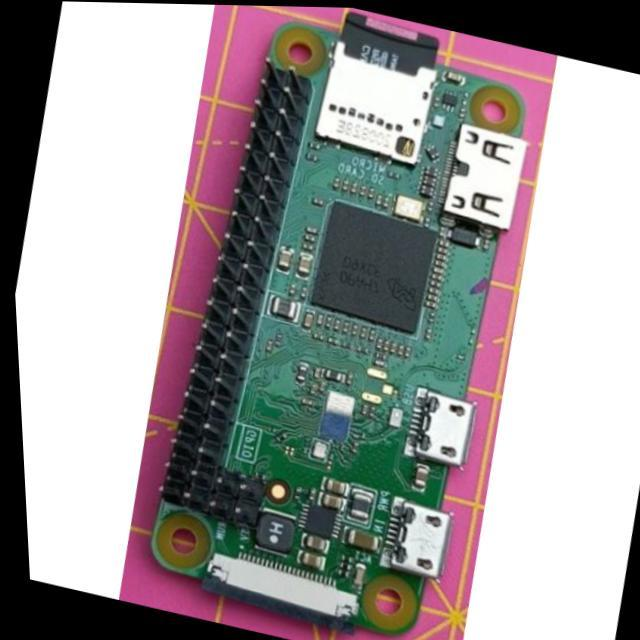Raspberry-Pi-Zero-WH: (151, 14, 527, 635)
